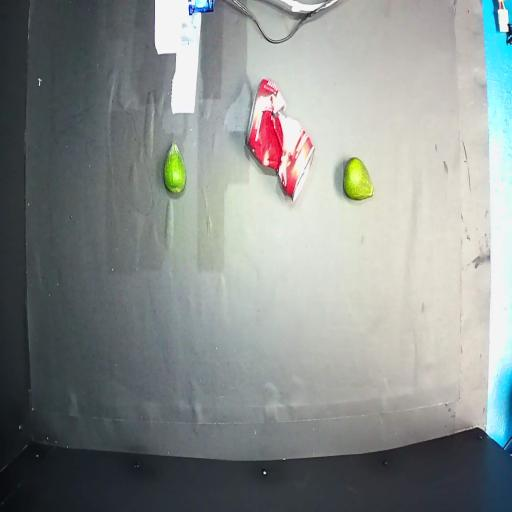higo: (342, 157, 374, 200), (163, 143, 186, 192)
lata_defectuoso: (246, 79, 314, 201)
